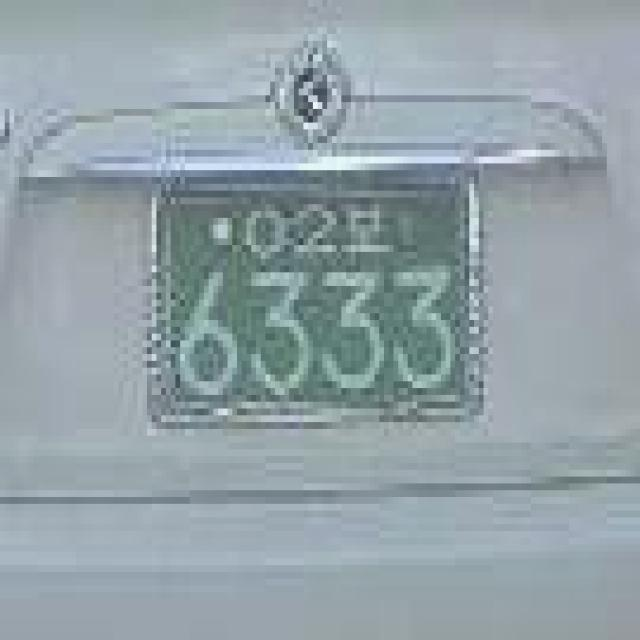illegal_plate: (143, 166, 496, 446)
